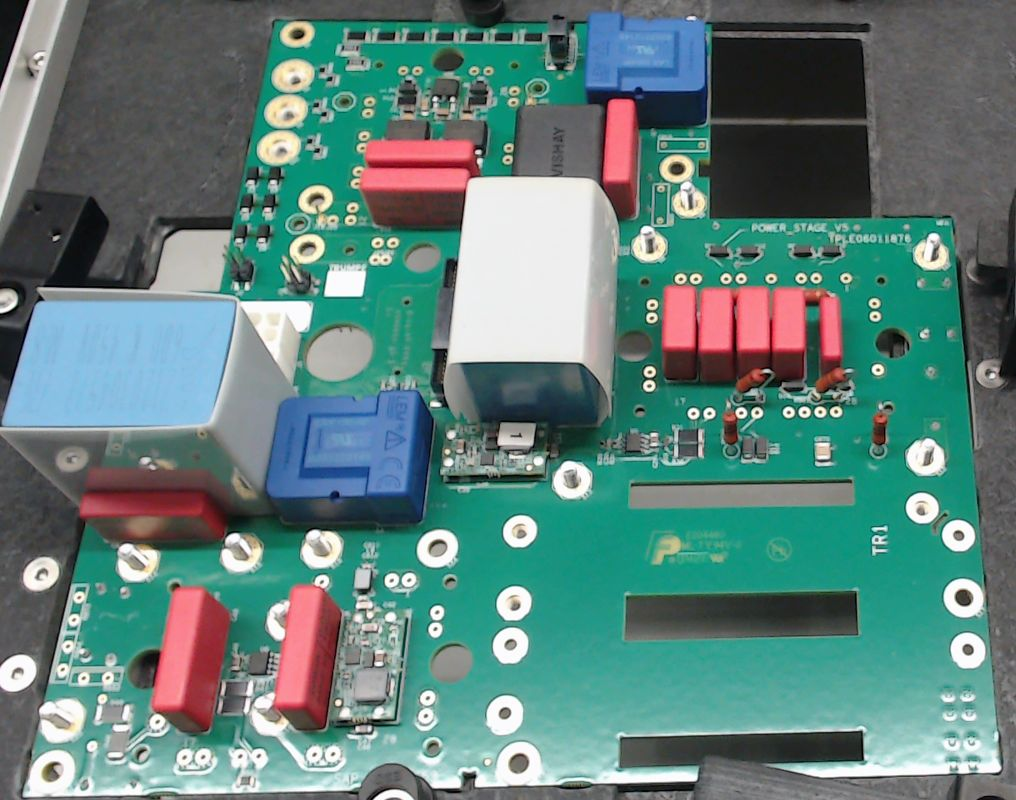comp1: (269, 390, 436, 525), (583, 14, 710, 123)
comp2: (151, 588, 231, 735), (276, 585, 340, 736), (74, 492, 228, 544), (360, 167, 472, 223), (601, 100, 639, 218), (770, 285, 808, 380), (663, 284, 698, 383), (363, 140, 479, 169), (701, 285, 734, 383), (734, 284, 769, 375), (817, 295, 844, 373)
comp3: (510, 103, 610, 181)
comp4: (1, 284, 297, 517), (444, 178, 621, 429)
